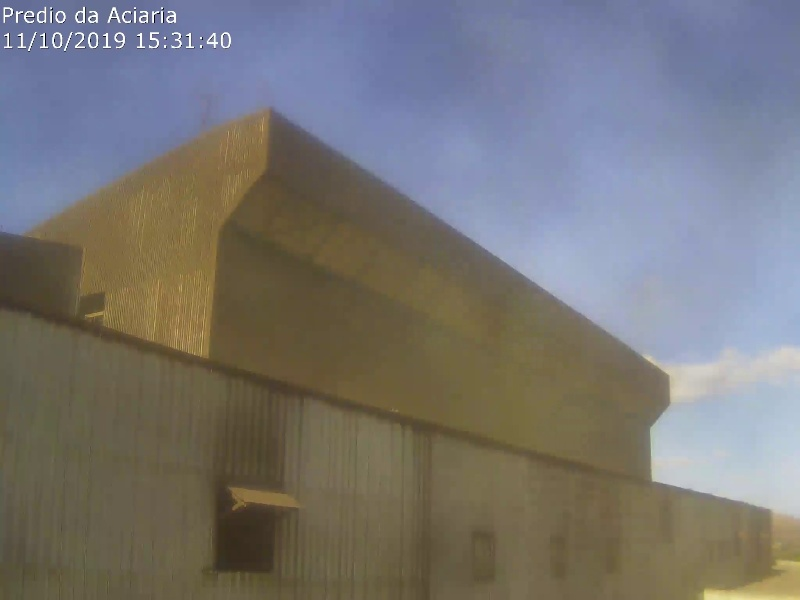ruim: (419, 214, 638, 462)
